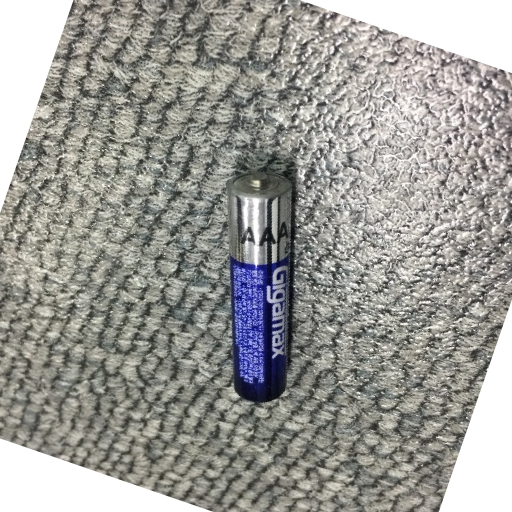Battery_0: (213, 162, 310, 413)
